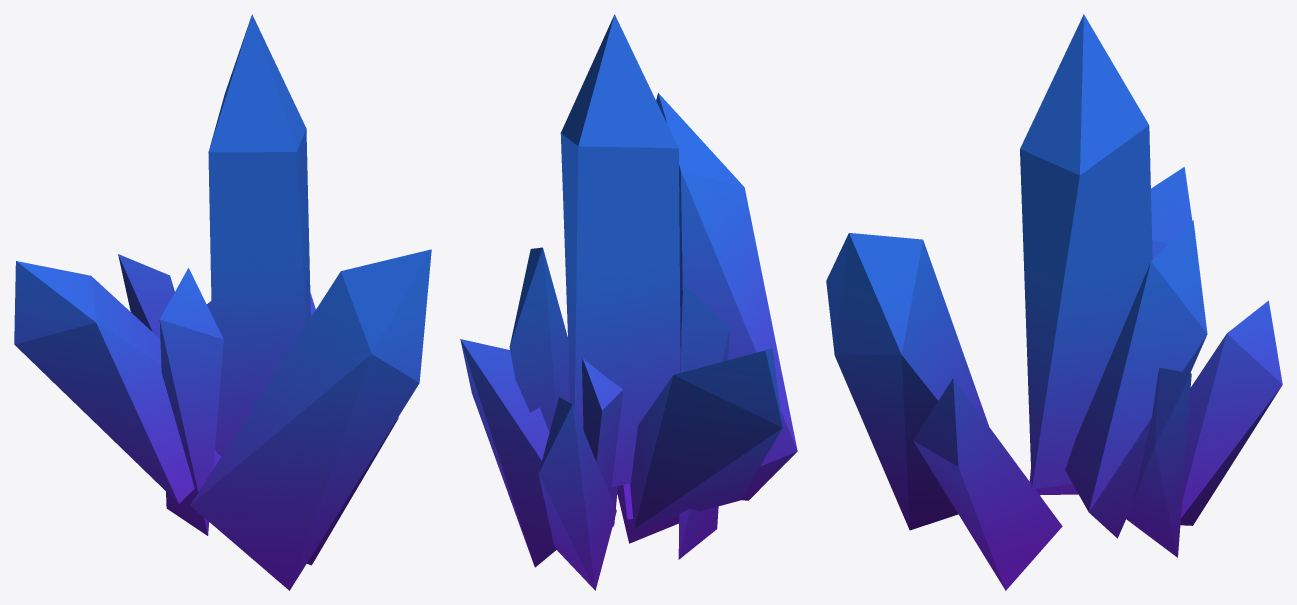
File: crystal2.fbx
The picture shows the model from 3 angles, left to right: view 1: azimuth 30°, elevation 25°; view 2: azimuth 150°, elevation 25°; view 3: azimuth 270°, elevation 25°; orthographic projection. The views are drawn at different scales.
Visible parts, largest first — view 1: cristal_2; view 2: cristal_2; view 3: cristal_2.
Boxes of the visible parts, x1=… form: cristal_2: x1=14, y1=14, x2=431, y2=590; cristal_2: x1=460, y1=14, x2=797, y2=590; cristal_2: x1=826, y1=14, x2=1282, y2=590.
Bounding box in the file's own units: 0.436 × 0.7393 × 0.5414.
Materials: 1 (1 with a texture image).
